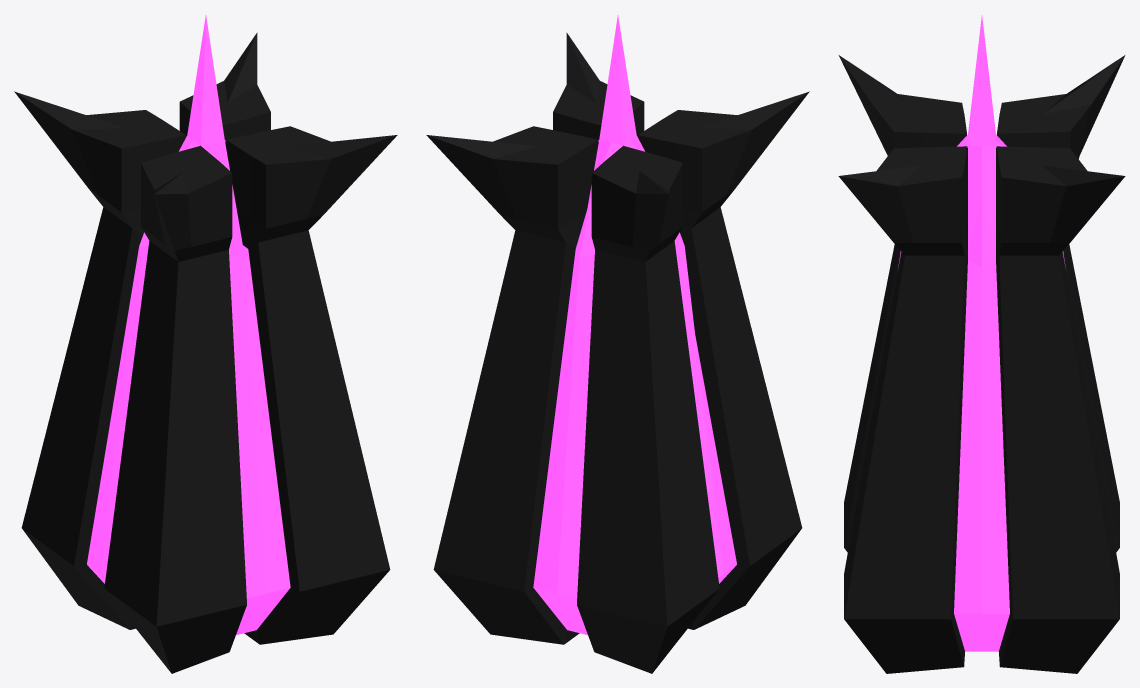
The model's file is Pyramid_L_ underworld.fbx.
3 renders of one model, left to right at view 1: azimuth 30°, elevation 25°; view 2: azimuth 150°, elevation 25°; view 3: azimuth 270°, elevation 25°, orthographic. The views are drawn at different scales.
Visible parts, largest first — view 1: Cube; view 2: Cube; view 3: Cube.
Boxes of the visible parts, x1,y1,x2,y2 form: Cube: (14,15,397,673); Cube: (426,15,809,673); Cube: (838,15,1125,673).
Size of the model in its own units: 343 by 816 by 343.
